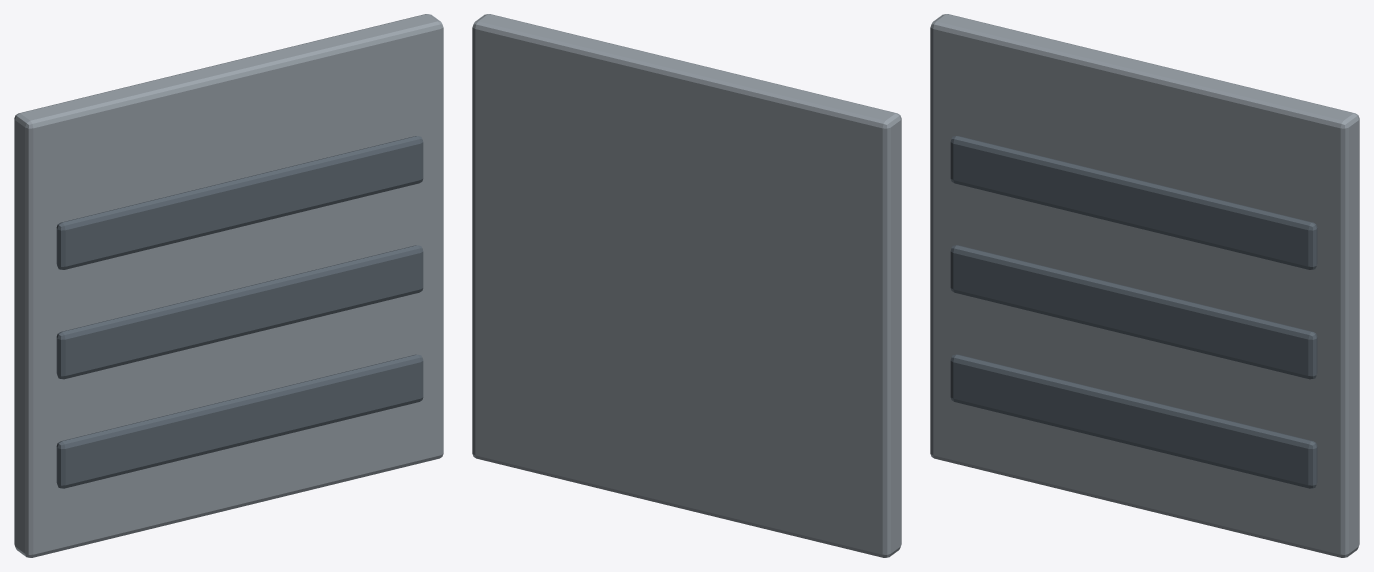
The model's file is 4_Unstable.fbx.
3 views of the same model, side by side, from view 1: azimuth 30°, elevation 25°; view 2: azimuth 150°, elevation 25°; view 3: azimuth 330°, elevation 25° (orthographic).
Parts seen in each view (by area): view 1: Body; view 2: Body; view 3: Body.
Part boxes in pixels (x1=…): Body: x1=14, y1=14, x2=443, y2=557; Body: x1=472, y1=14, x2=901, y2=557; Body: x1=930, y1=14, x2=1359, y2=557.
Size of the model in its own units: 2.4 by 2.4 by 0.22.
